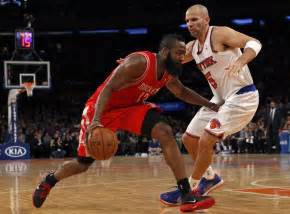basketball: (86, 128, 117, 161)
